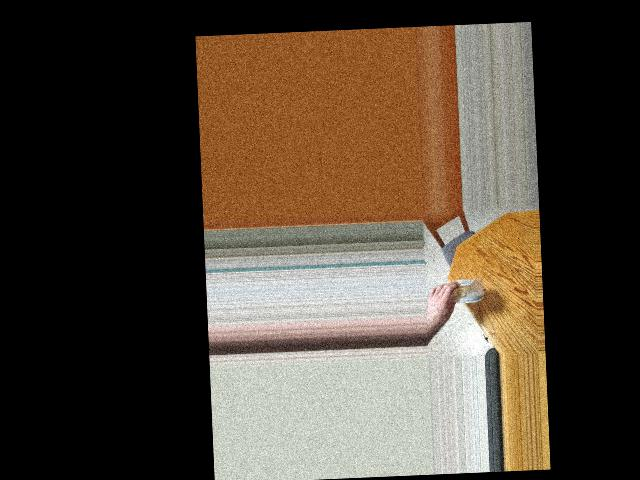cheese: (435, 271, 482, 312)
